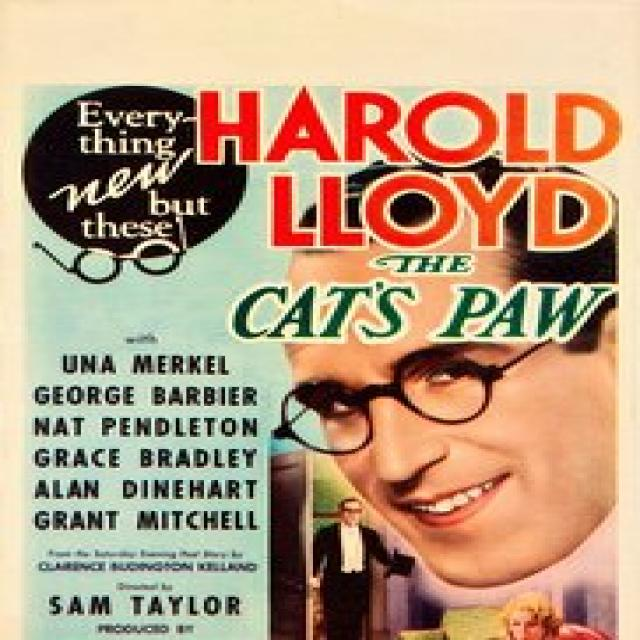movie-judul: (227, 280, 623, 343)
picture: (288, 156, 614, 640)
